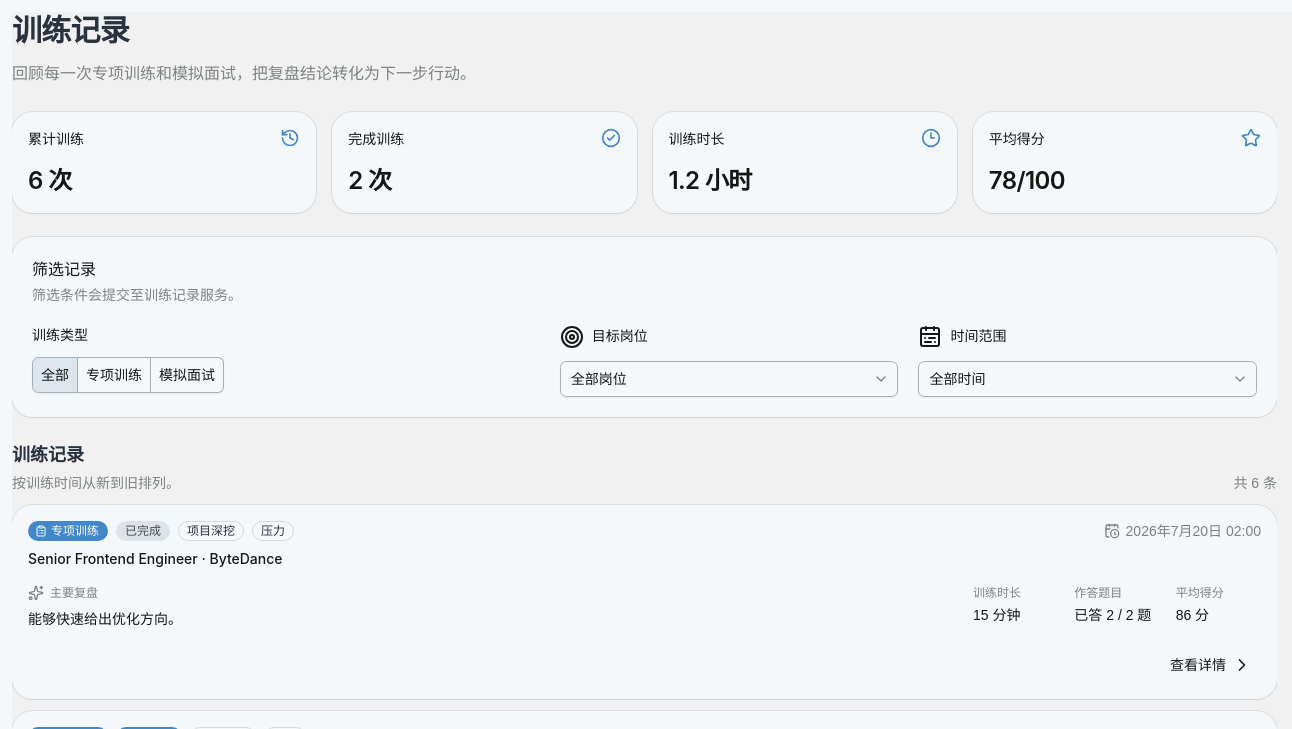
it: HistoryPage › keeps the newest result when filters change faster than requests finish
Expected: the text "能够快速给出优化方向。" is shown, top-left (28, 610), bottom-right (182, 626)
Click the button "模拟面试" at (188, 374), box top-left (151, 356), bottom-right (224, 392)
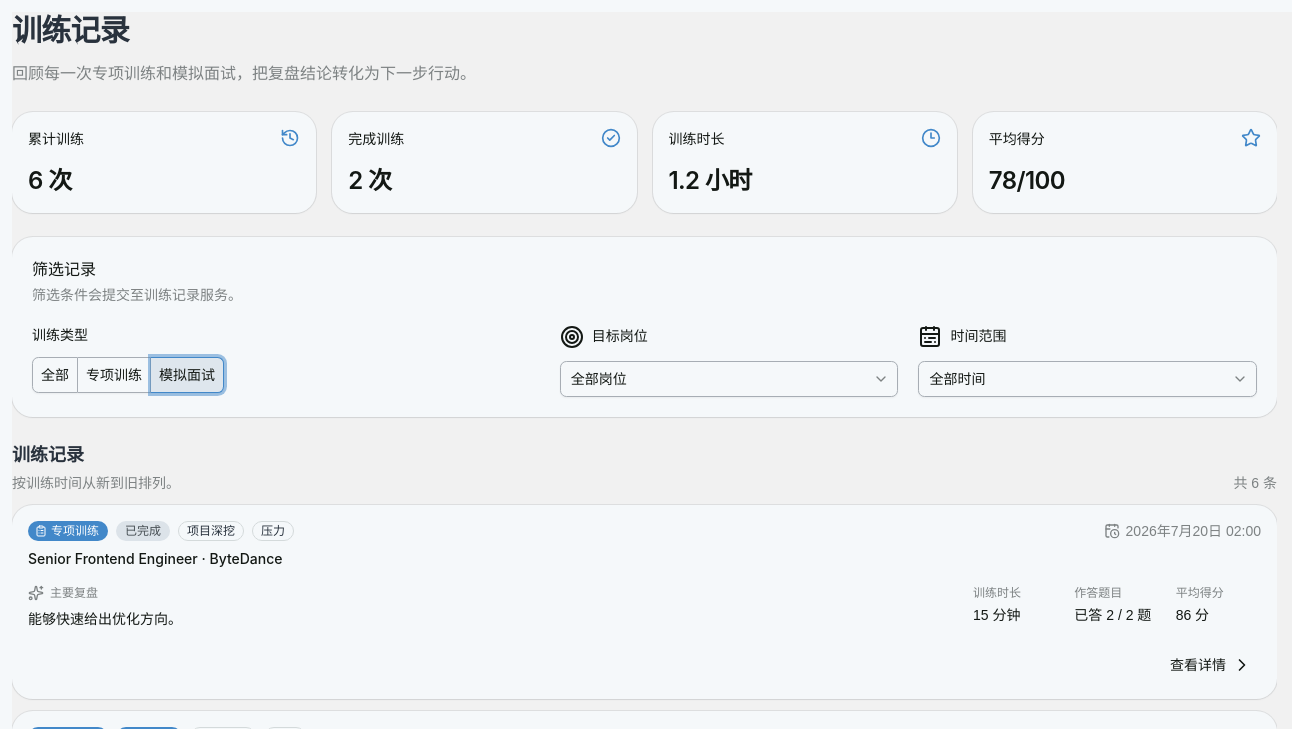
Click the button "专项训练" at (114, 374), box top-left (78, 356), bottom-right (151, 392)
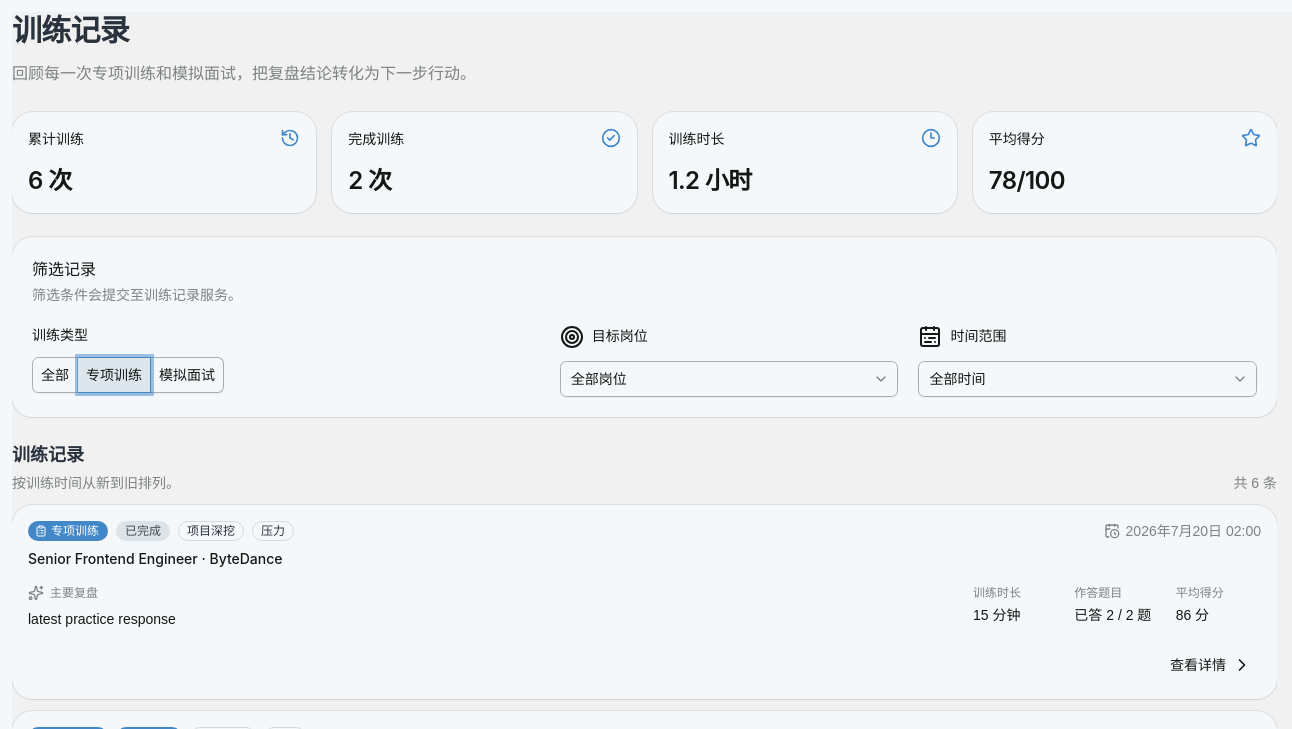
Now the text "latest practice response" is shown, box top-left (28, 610), bottom-right (176, 626)
